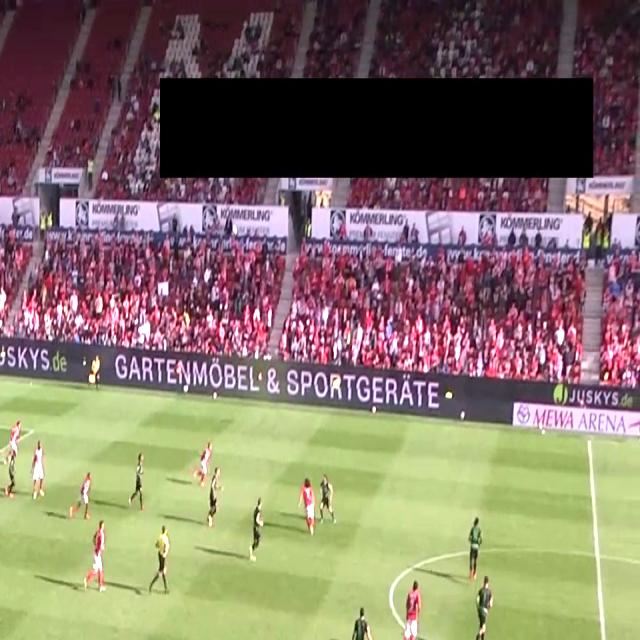referee: (145, 524, 175, 602)
soccer-player: (79, 517, 110, 600), (0, 416, 29, 498), (467, 576, 499, 640), (393, 575, 424, 640), (246, 492, 271, 568), (327, 604, 378, 640), (464, 513, 489, 585), (295, 474, 321, 539), (28, 440, 53, 506), (67, 470, 95, 526), (317, 473, 342, 534), (128, 449, 152, 512), (203, 466, 225, 533), (194, 436, 218, 488)
